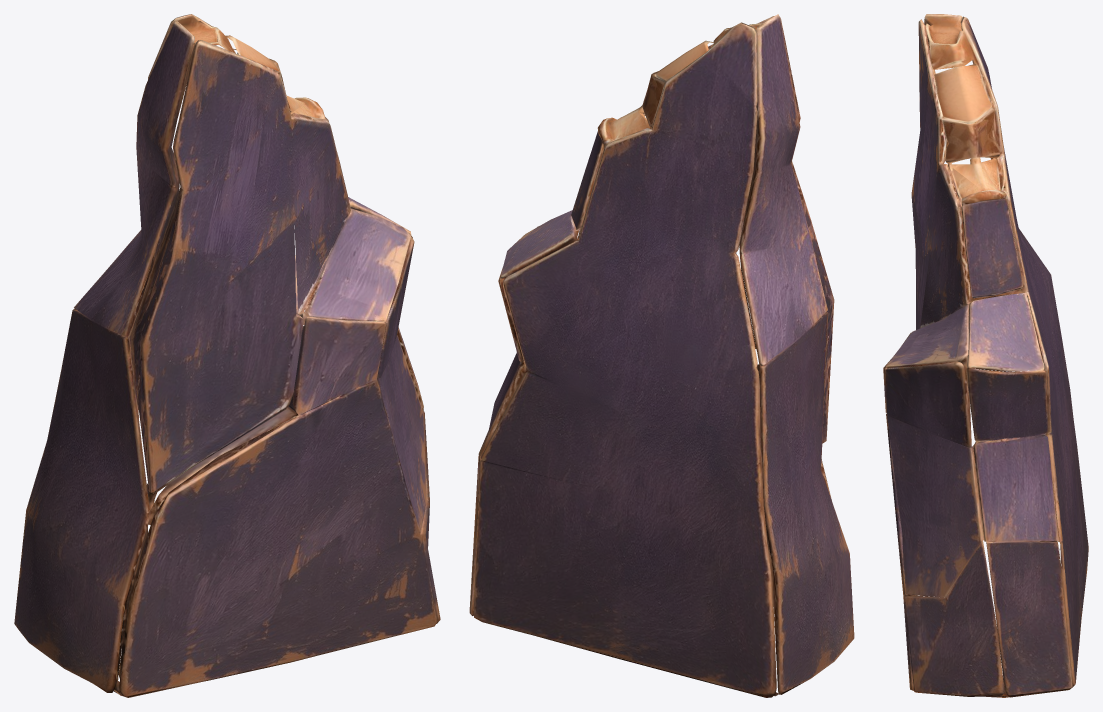
Rendered from rock_tall.glb.
3 renders of one model, left to right at view 1: azimuth 30°, elevation 25°; view 2: azimuth 150°, elevation 25°; view 3: azimuth 270°, elevation 25°, orthographic. The views are drawn at different scales.
Visible parts, largest first — view 1: tripo_3a091a86_8574_420f_b0c1_5190079b828a; view 2: tripo_3a091a86_8574_420f_b0c1_5190079b828a; view 3: tripo_3a091a86_8574_420f_b0c1_5190079b828a.
Part boxes in pixels (x1=…): tripo_3a091a86_8574_420f_b0c1_5190079b828a: x1=14, y1=14, x2=440, y2=697; tripo_3a091a86_8574_420f_b0c1_5190079b828a: x1=469, y1=14, x2=854, y2=697; tripo_3a091a86_8574_420f_b0c1_5190079b828a: x1=883, y1=14, x2=1088, y2=697.
Bounding box in the file's own units: 0.5942 × 0.9995 × 0.3228.
Materials: 1 (1 with a texture image).
